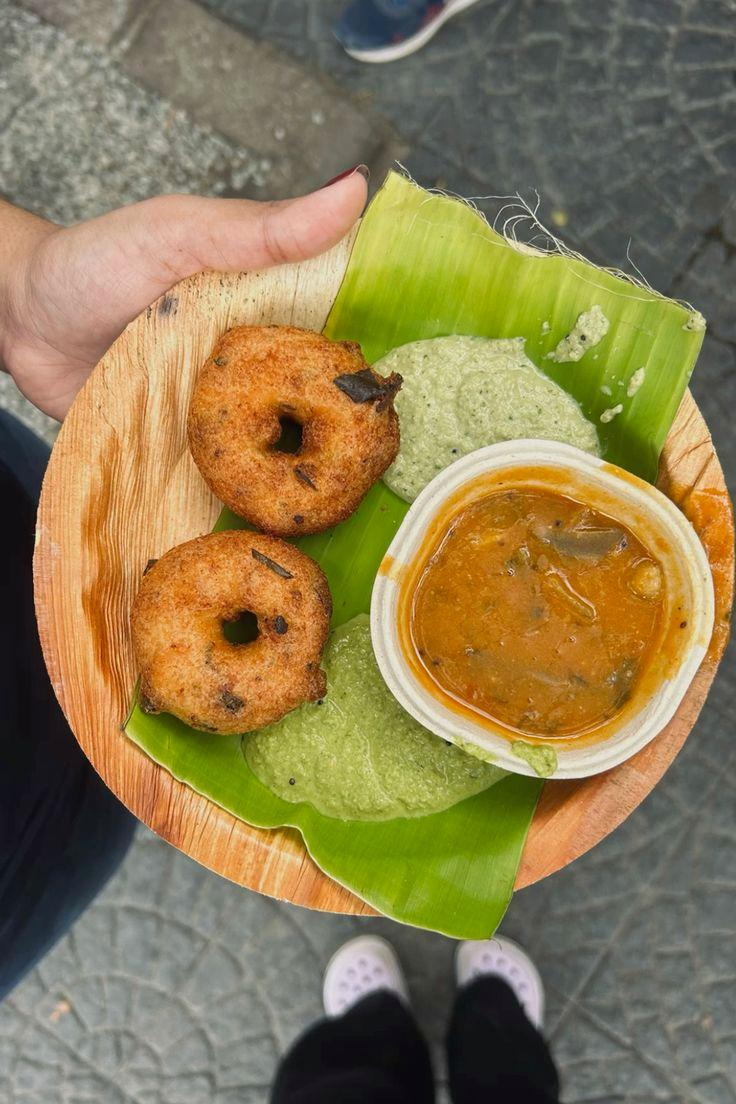medu vada: (120, 322, 379, 722)
sambhar: (422, 517, 677, 753)
